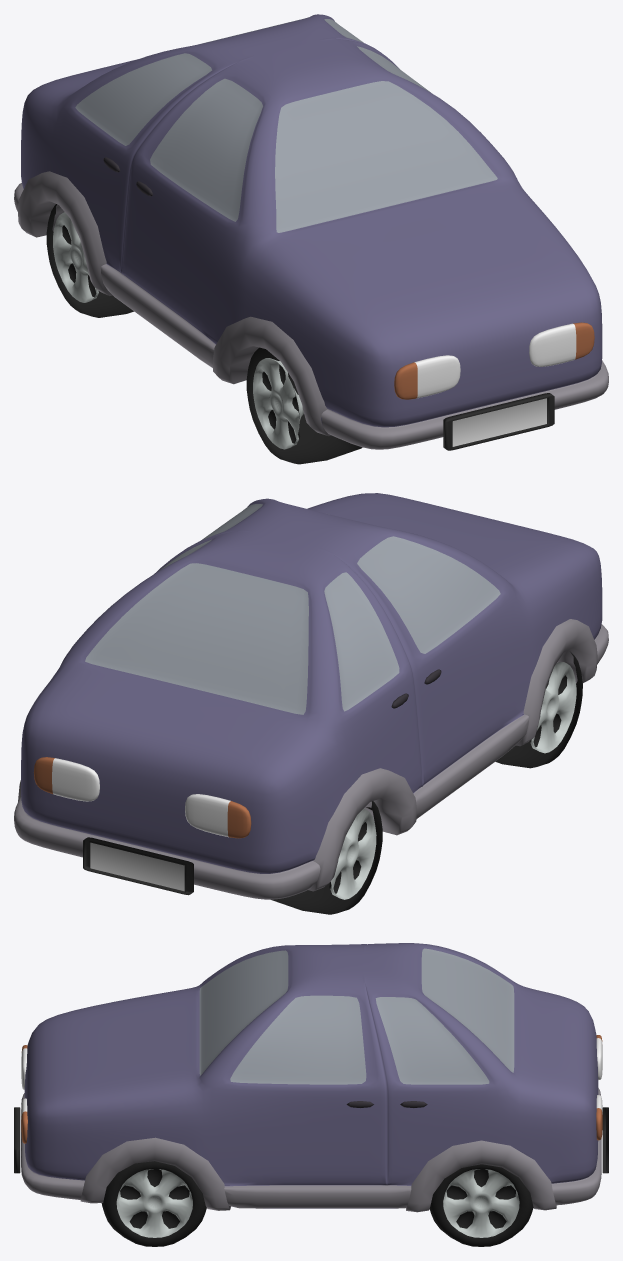
The model's file is car3 (1).fbx.
The picture shows the model from 3 angles, top to bottom: view 1: azimuth 30°, elevation 25°; view 2: azimuth 150°, elevation 25°; view 3: azimuth 270°, elevation 25°; orthographic projection. The views are drawn at different scales.
Visible parts, largest first — view 1: Cube, Cylinder.008, Cylinder.007, Cube.005, Cube.001; view 2: Cube, Cylinder.008, Cylinder.007, Cube.005, Cube.001; view 3: Cube, Cylinder.008, Cylinder.007, Cube.005, Cube.001.
Part boxes in pixels (x1,y1,x2,y2): Cube: (14,14,608,449); Cylinder.008: (46,204,362,464); Cylinder.007: (17,171,330,436); Cube.005: (394,322,594,399); Cube.001: (443,393,554,450); Cube: (14,493,608,899); Cylinder.008: (271,651,582,914); Cylinder.007: (18,619,597,891); Cube.005: (33,757,251,838); Cube.001: (83,837,193,895); Cube: (21,943,601,1208); Cylinder.008: (101,1161,533,1246); Cylinder.007: (80,1137,556,1212); Cube.005: (21,1035,602,1143); Cube.001: (14,1107,608,1173).
Size of the model in its own units: 453 by 389 by 888.
